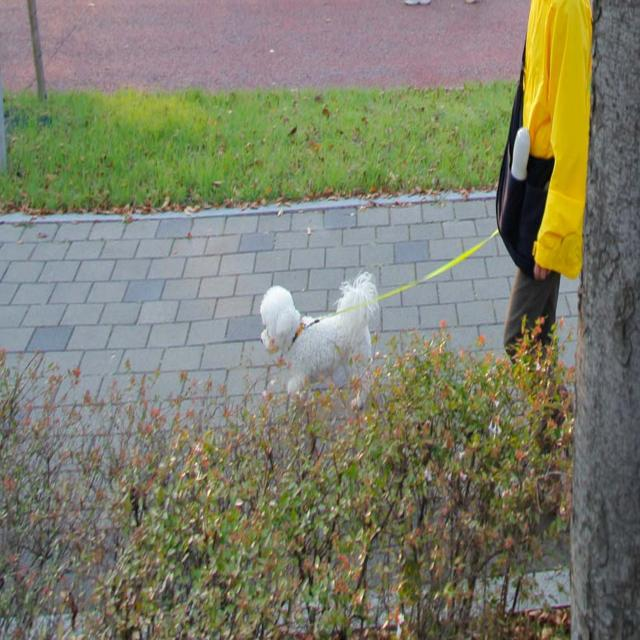Leashed_Dog: (260, 221, 560, 407)
